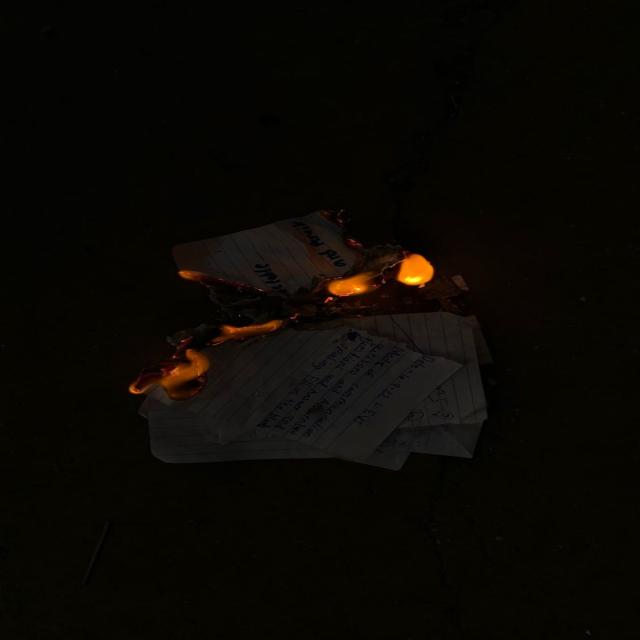fire: (130, 347, 210, 400), (203, 319, 284, 344), (327, 271, 381, 297), (398, 253, 434, 288)
